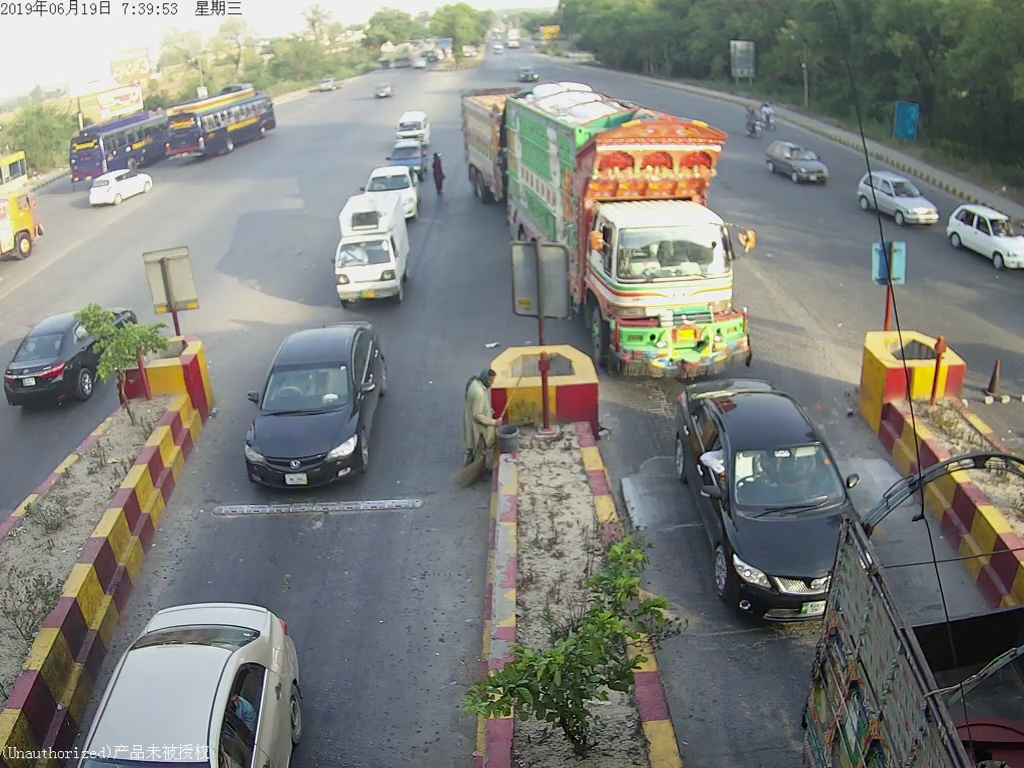Cat-1: (673, 390, 817, 629), (250, 325, 392, 491), (333, 203, 411, 313)
Cat-4: (507, 86, 765, 385)
